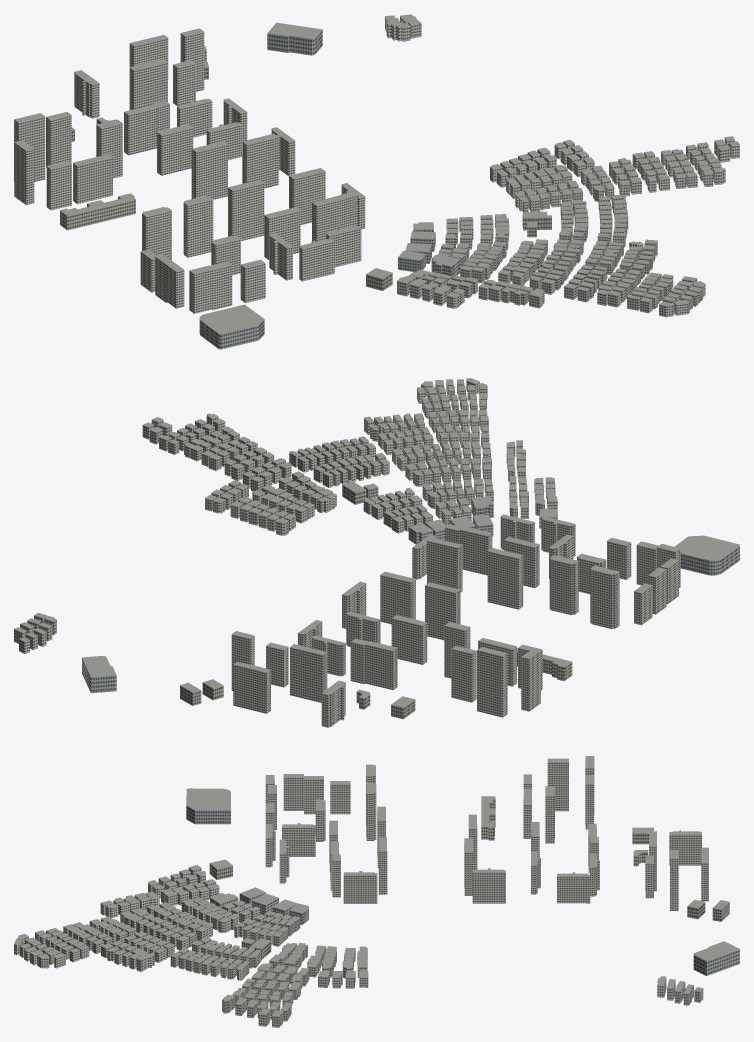
The picture shows the model from 3 angles, top to bottom: view 1: azimuth 30°, elevation 25°; view 2: azimuth 150°, elevation 25°; view 3: azimuth 270°, elevation 25°; orthographic projection. The views are drawn at different scales.
Visible parts, largest first — view 1: ctx-apartments, ctx-roof, ctx-commercial, ctx-school, ctx-other; view 2: ctx-apartments, ctx-roof, ctx-commercial, ctx-other; view 3: ctx-apartments, ctx-roof, ctx-commercial, ctx-other.
Boxes of the visible parts, box(x1,y1,x2,y2) form: ctx-apartments: box(14, 16, 739, 317); ctx-roof: box(14, 14, 739, 333); ctx-commercial: box(199, 29, 460, 349); ctx-school: box(60, 196, 135, 230); ctx-other: box(71, 67, 551, 290); ctx-apartments: box(14, 379, 680, 727); ctx-roof: box(14, 378, 739, 707); ctx-commercial: box(82, 498, 739, 705); ctx-other: box(202, 481, 557, 719); ctx-apartments: box(14, 759, 708, 1027); ctx-roof: box(14, 756, 739, 1016); ctx-commercial: box(186, 805, 739, 976); ctx-other: box(209, 833, 705, 959).
Size of the model in its own units: 746 by 81.99 by 920.
5 materials, 4 textured.
